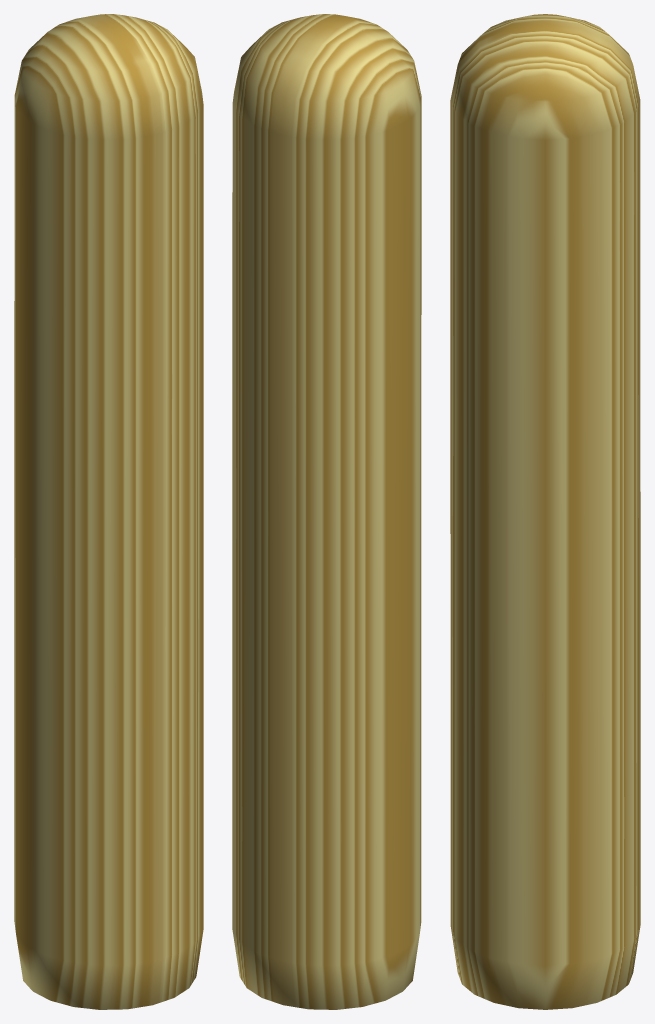
The model's file is left leg.obj.
The picture shows the model from 3 angles, left to right: view 1: azimuth 30°, elevation 25°; view 2: azimuth 150°, elevation 25°; view 3: azimuth 270°, elevation 25°; orthographic projection.
Parts seen in each view (by area): view 1: Blake_left_leg_up_left_leg; view 2: Blake_left_leg_up_left_leg; view 3: Blake_left_leg_up_left_leg.
Boxes of the visible parts, x1=… form: Blake_left_leg_up_left_leg: x1=14, y1=14, x2=203, y2=1009; Blake_left_leg_up_left_leg: x1=232, y1=14, x2=421, y2=1009; Blake_left_leg_up_left_leg: x1=450, y1=14, x2=640, y2=1009.
Bounding box in the file's own units: 0.4175 × 2.34 × 0.4177.
